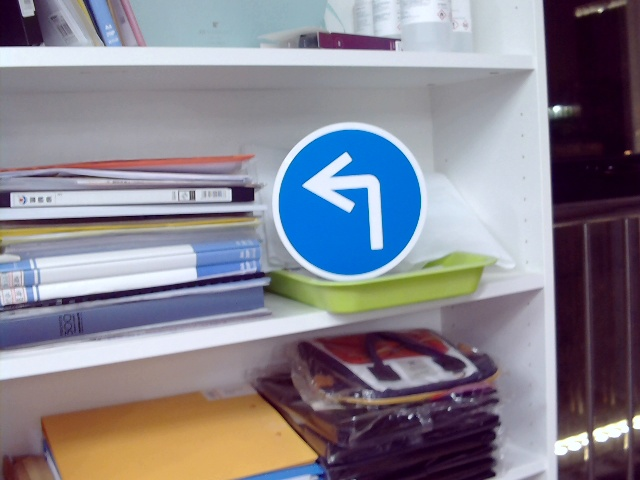turn_left: (302, 152, 395, 251)
